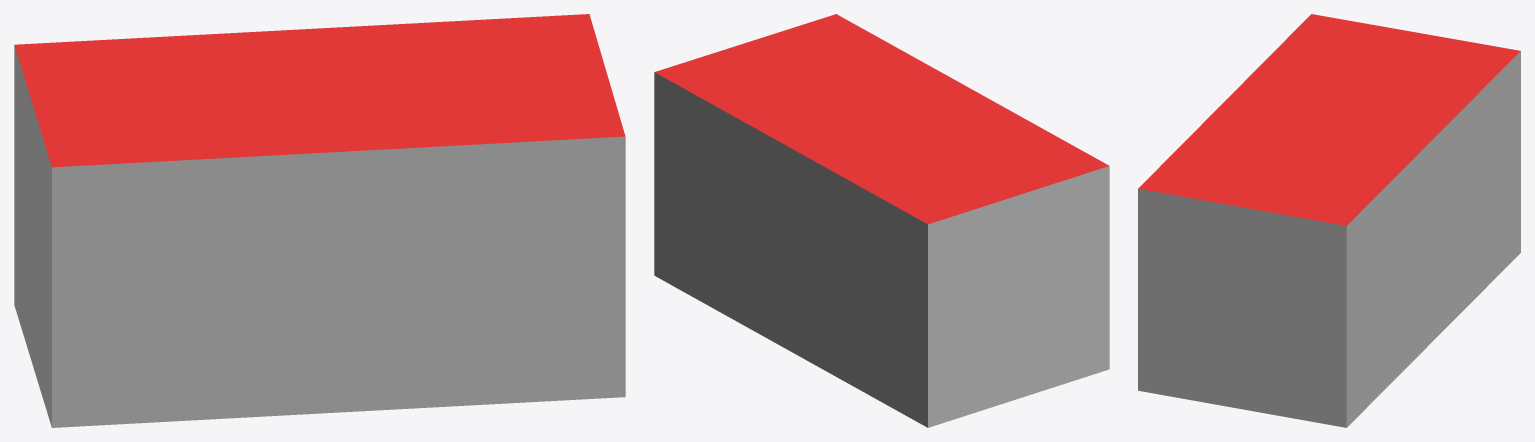
File: DEBY_LOD2_4731271.dae
3 renders of one model, left to right at view 1: azimuth 30°, elevation 25°; view 2: azimuth 150°, elevation 25°; view 3: azimuth 270°, elevation 25°, orthographic. The views are drawn at different scales.
Size of the model in its own units: 6.68 by 5.09 by 2.97.
